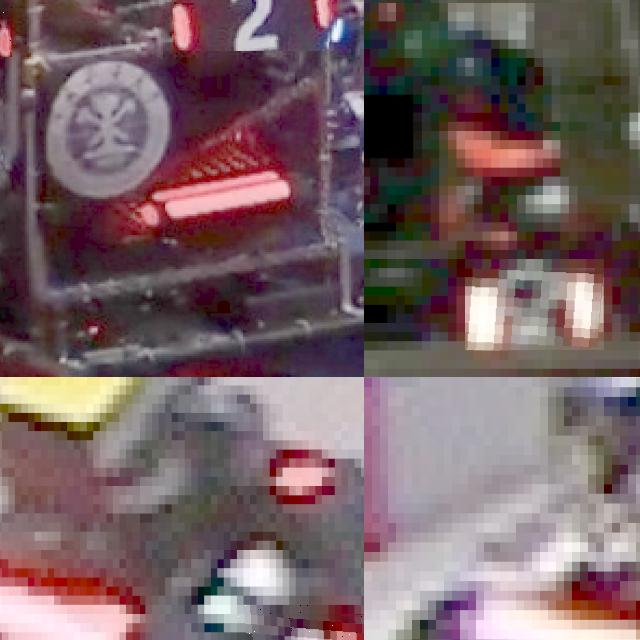R2: (172, 0, 334, 50)
R3: (237, 604, 364, 640)
Rs: (465, 259, 604, 350)
